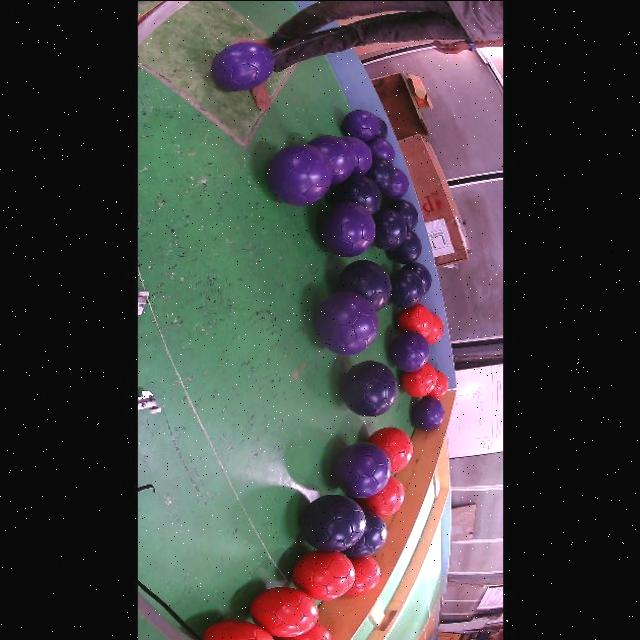B: (301, 493, 367, 550), (342, 360, 399, 416), (339, 258, 392, 310), (343, 510, 389, 557), (334, 173, 382, 213), (373, 209, 408, 249), (390, 268, 425, 308), (389, 230, 423, 263), (367, 155, 397, 190), (403, 261, 433, 294), (387, 199, 419, 229)
P: (316, 290, 380, 355), (268, 143, 334, 205), (334, 441, 392, 497), (212, 41, 276, 91), (320, 200, 376, 256), (309, 134, 357, 183), (390, 329, 430, 371), (343, 108, 381, 140), (343, 135, 373, 174), (413, 395, 446, 430), (382, 167, 410, 199), (367, 136, 396, 162)
R: (250, 586, 319, 637), (293, 550, 357, 600), (369, 426, 414, 473), (399, 303, 444, 343), (363, 475, 405, 517), (204, 619, 275, 640), (347, 555, 382, 595), (401, 361, 438, 397), (276, 623, 333, 640), (429, 369, 450, 399), (427, 313, 444, 343)
